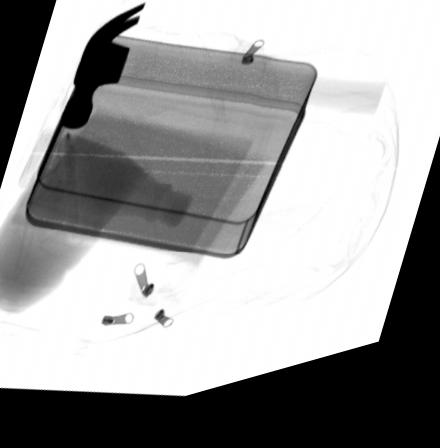Hammer: (58, 10, 389, 137)
